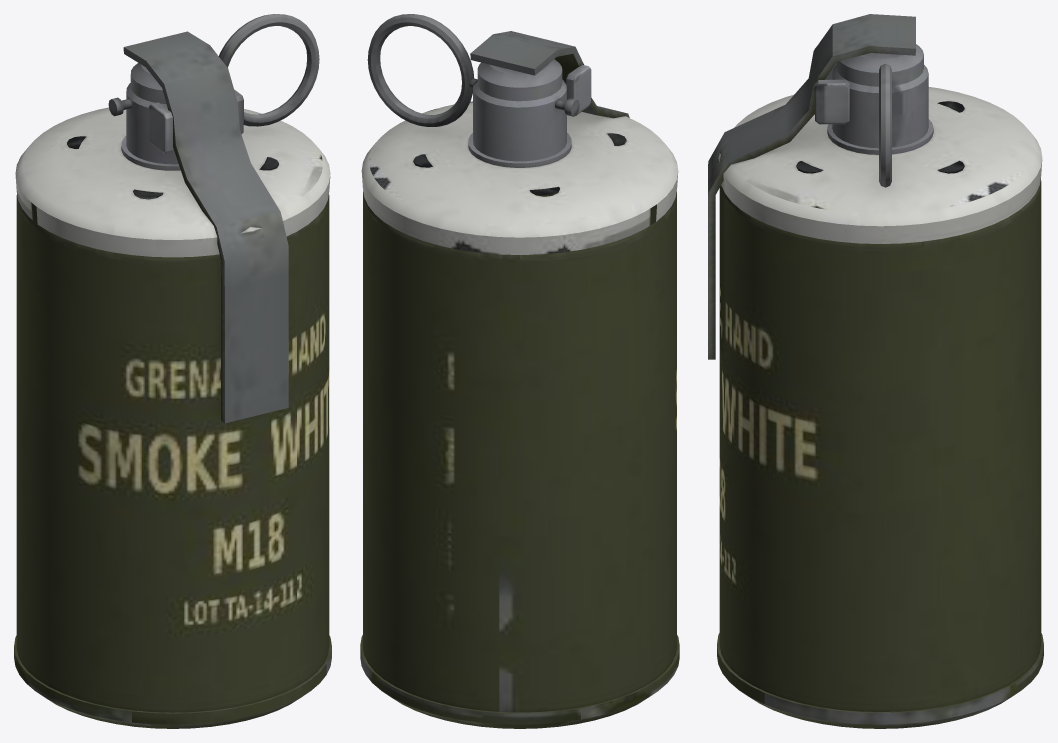
File: throw_smoke.glb
3 renders of one model, left to right at view 1: azimuth 30°, elevation 25°; view 2: azimuth 150°, elevation 25°; view 3: azimuth 270°, elevation 25°, orthographic. The views are drawn at different scales.
Parts seen in each view (by area): view 1: body, spoon_mesh, pin_mesh; view 2: body, pin_mesh, spoon_mesh; view 3: body, spoon_mesh, pin_mesh.
Part boxes in pixels (bbox=[...]): body: bbox=[14, 63, 331, 728]; spoon_mesh: bbox=[123, 31, 288, 423]; pin_mesh: bbox=[108, 14, 319, 126]; body: bbox=[360, 59, 679, 728]; pin_mesh: bbox=[367, 14, 579, 126]; spoon_mesh: bbox=[470, 31, 629, 118]; body: bbox=[717, 44, 1043, 728]; spoon_mesh: bbox=[708, 14, 915, 359]; pin_mesh: bbox=[879, 63, 891, 187].
Size of the model in its own units: 0.0671 by 0.1403 by 0.0663.
1 material, 1 textured.
